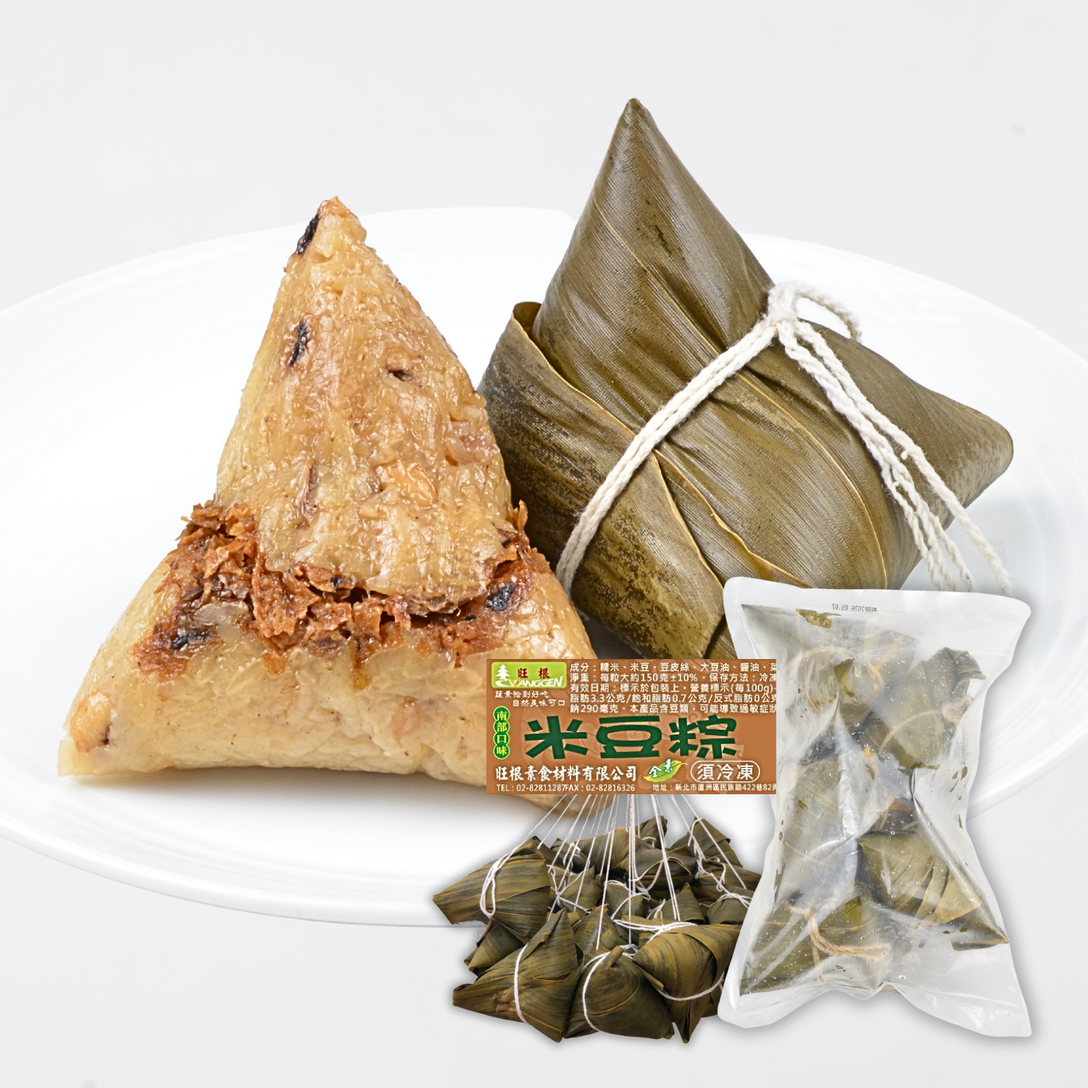zongzi: (60, 199, 591, 784), (481, 100, 1012, 657), (452, 915, 578, 1041), (633, 924, 739, 1041), (434, 839, 553, 938), (566, 948, 672, 1037), (626, 818, 696, 893), (574, 907, 626, 957)
